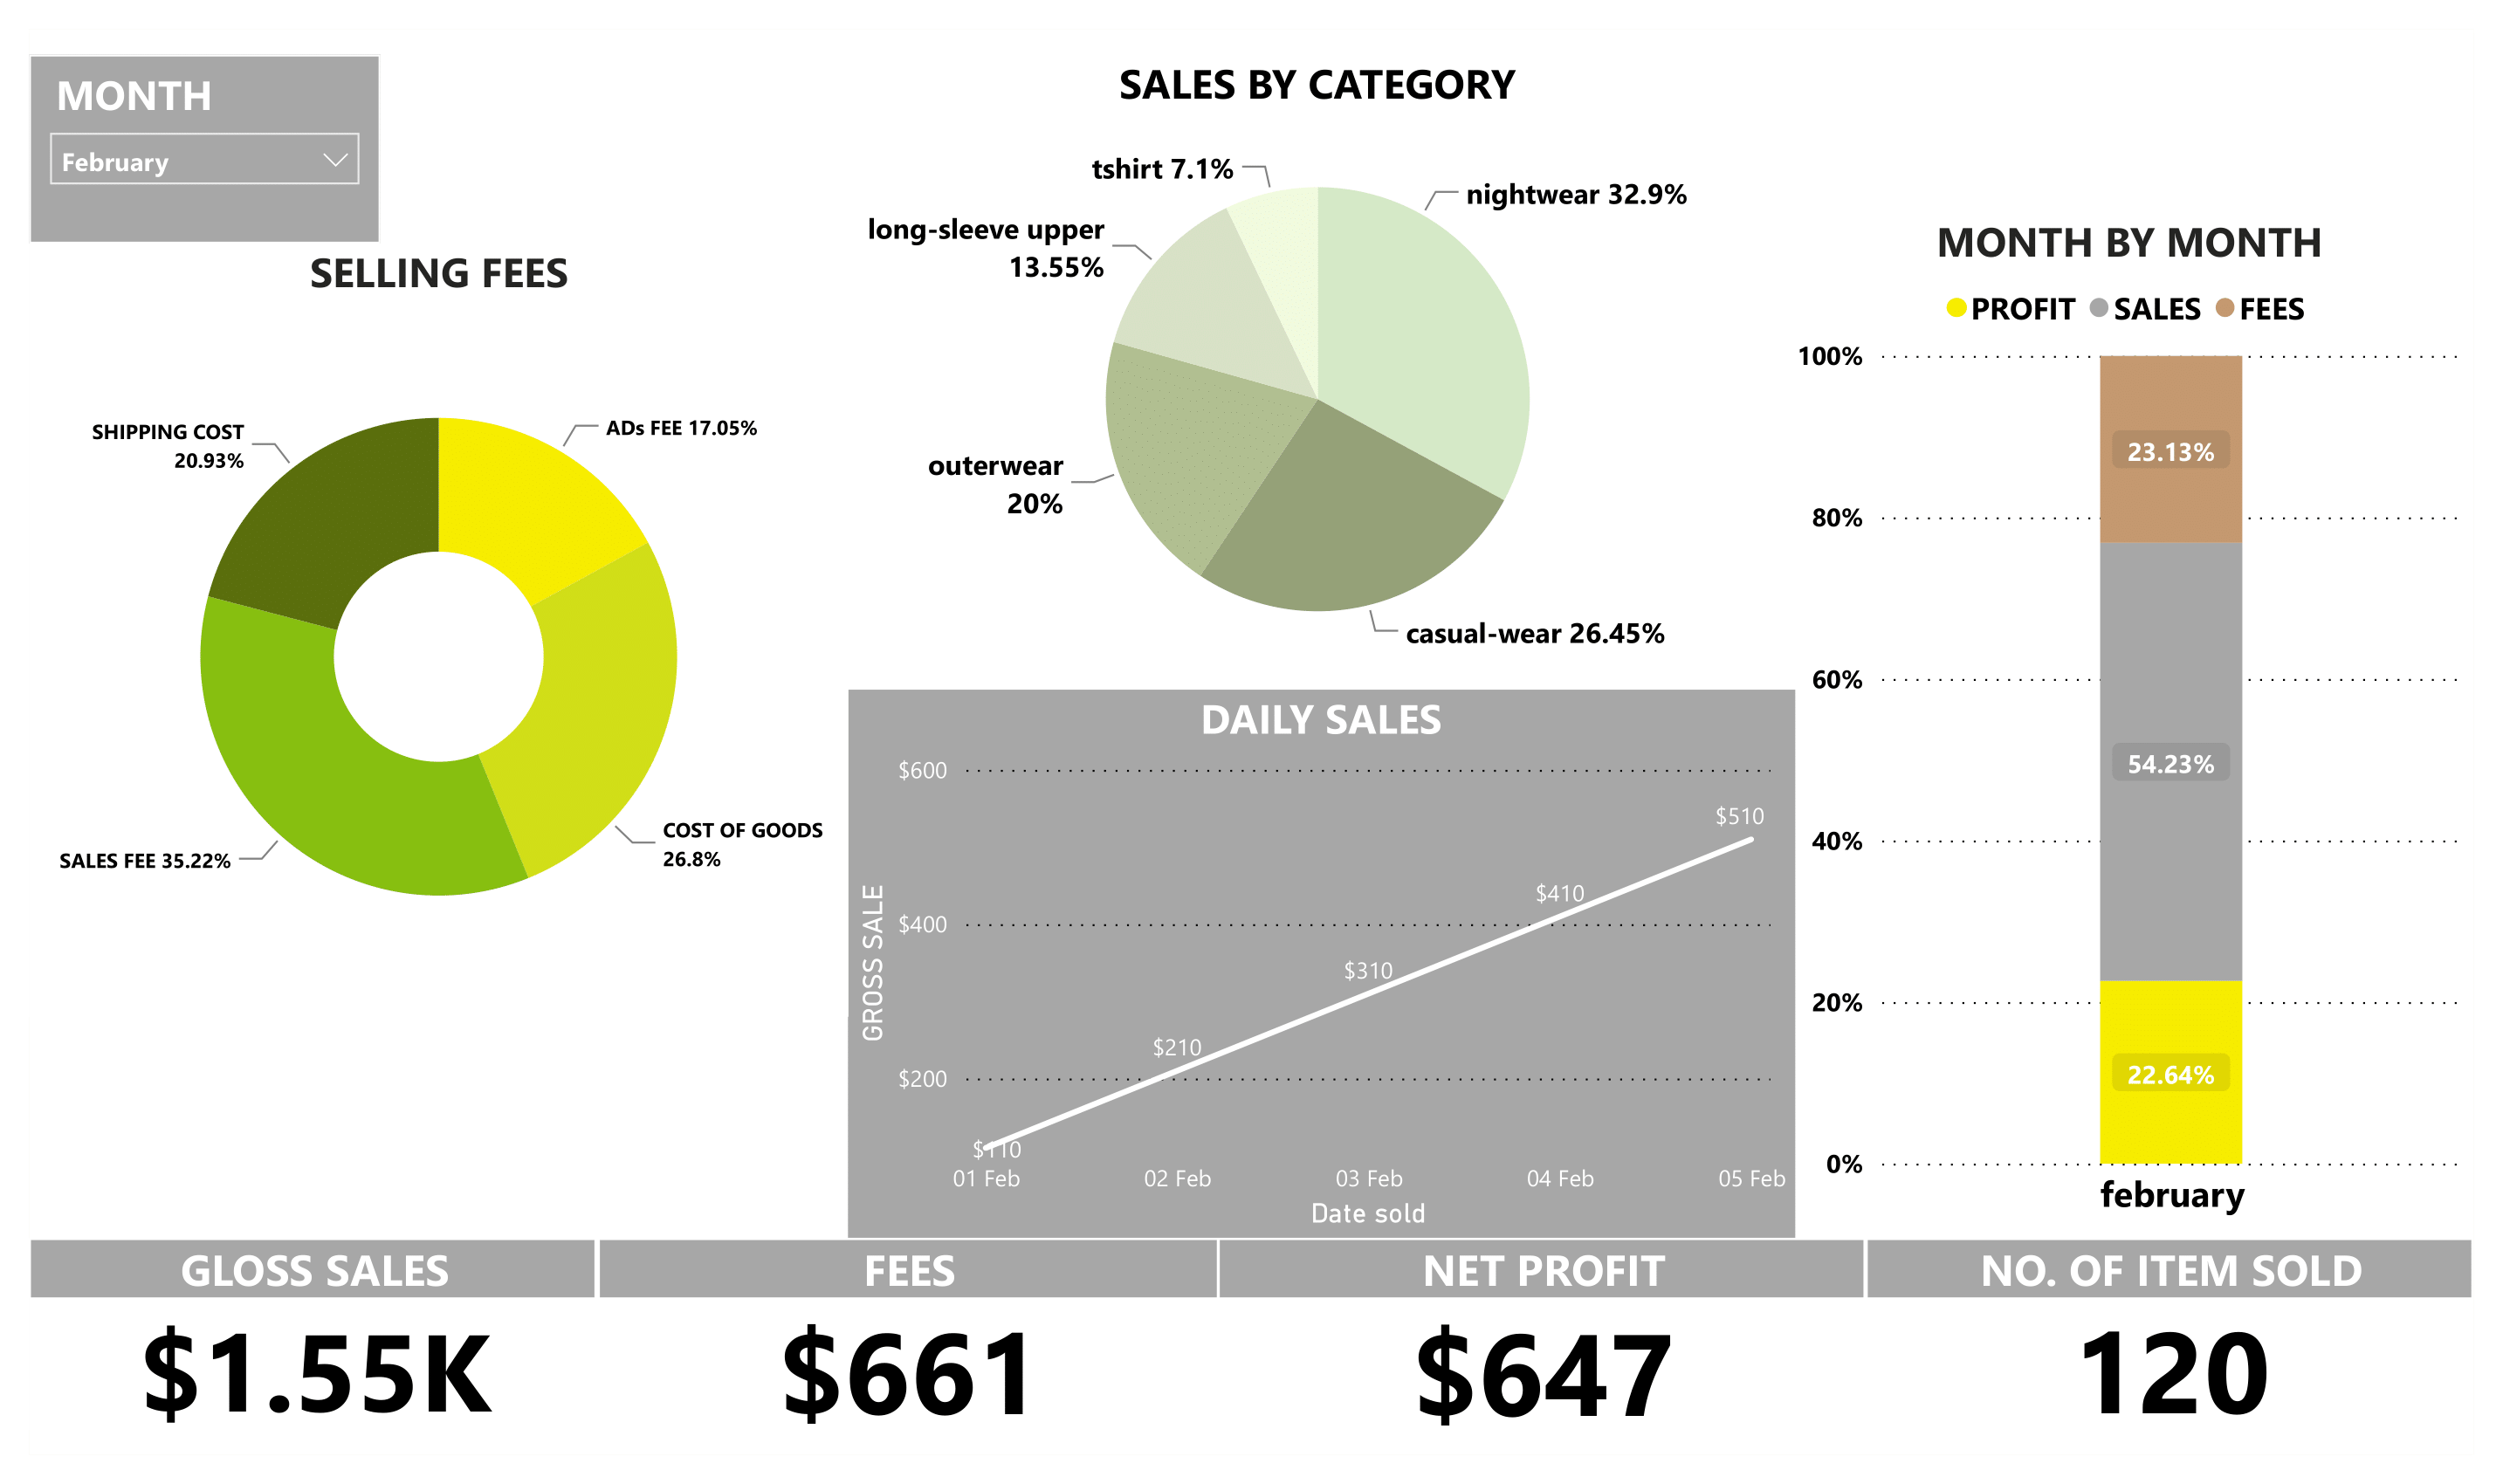

The dashboard page shown, as its layout file describes it:
{"tool":"powerbi","page":{"name":"Page 1","canvas":[1280,720],"ordinal":0},"visuals":[{"type":"pieChart","title":"SALES BY CATEGORY","fields":{"Category":["jan.Item Category"],"Y":["Sum(jan.GROSS SALE)"]},"box":[428.8,0,491.6,332.6],"z":0},{"type":"slicer","fields":{"Values":["jan.Date sold.Variation.Date Hierarchy.Month"]},"box":[0,0,184.3,98.8],"z":1000},{"type":"hundredPercentStackedColumnChart","title":"MONTH BY MONTH","fields":{"Category":["jan.Month"],"Y":["Sum(jan.NET PROFIT Total )","Sum(jan.GROSS SALE)","Sum(jan.Total monthly fees)"]},"box":[920.8,82.6,359.2,536.8],"z":2000},{"type":"lineChart","title":"DAILY SALES","fields":{"Y":["Sum(jan.GROSS SALE)"],"Category":["jan.Date sold"]},"box":[428.8,332.6,495.6,287.2],"z":3000},{"type":"card","title":"GLOSS SALES","fields":{"Values":["Sum(jan.GROSS SALE)"]},"box":[0,619.3,297.5,101.4],"z":4000},{"type":"card","title":"FEES","fields":{"Values":["Sum(jan.Total monthly fees)"]},"box":[297.5,619.3,324.5,101.4],"z":5000},{"type":"card","title":"NET PROFIT","fields":{"Values":["Sum(jan.NET PROFIT Total )"]},"box":[622.5,619.8,339.3,101.5],"z":6000},{"type":"card","title":"NO. OF ITEM SOLD","fields":{"Values":["Sum(jan.Total item Sold)"]},"box":[961.8,619.8,317.9,100.2],"z":7000},{"type":"donutChart","title":"SELLING FEES","fields":{"Y":["Sum(jan.AD FEE Total)","Sum(jan.COST OFGOODS Total)","Sum(jan.SALES FEE Total)","Sum(jan.SHIPPINGCOST Total)"]},"box":[0,99.1,429.4,404.6],"z":7001}]}

Visuals, with their boxes on the page's 1280x720 design canvas (x1, y1, x2, y2). These are canvas units, not pixel positions in the 2503x1484 screenshot, which may show the page scaled, cropped or inside an application window:
"SALES BY CATEGORY" pieChart: detection(429, 0, 920, 333)
slicer - jan.Date sold.Variation.Date Hierarchy.Month: detection(0, 0, 184, 99)
"MONTH BY MONTH" hundredPercentStackedColumnChart: detection(921, 83, 1280, 619)
"DAILY SALES" lineChart: detection(429, 333, 924, 620)
"GLOSS SALES" card: detection(0, 619, 298, 721)
"FEES" card: detection(298, 619, 622, 721)
"NET PROFIT" card: detection(622, 620, 962, 721)
"NO. OF ITEM SOLD" card: detection(962, 620, 1280, 720)
"SELLING FEES" donutChart: detection(0, 99, 429, 504)
